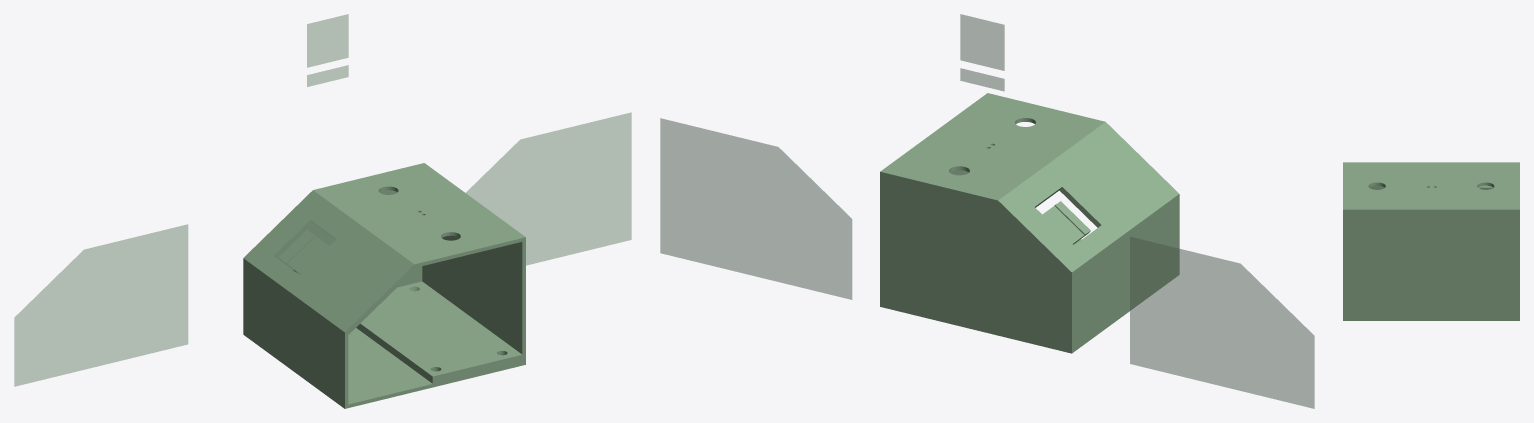
File: IoTSwitch.obj
The picture shows the model from 3 angles, left to right: view 1: azimuth 30°, elevation 25°; view 2: azimuth 150°, elevation 25°; view 3: azimuth 270°, elevation 25°; orthographic projection. The views are drawn at different scales.
Parts seen in each view (by area): view 1: IoTSwitch\Těleso, IoTSwitch\Povrch; view 2: IoTSwitch\Těleso, IoTSwitch\Povrch; view 3: IoTSwitch\Těleso.
Boxes of the visible parts, left/top/right/bottom form: IoTSwitch\Těleso: left=243, top=163, right=525, bottom=408; IoTSwitch\Povrch: left=14, top=14, right=631, bottom=386; IoTSwitch\Těleso: left=880, top=93, right=1179, bottom=353; IoTSwitch\Povrch: left=660, top=14, right=1314, bottom=408; IoTSwitch\Těleso: left=1343, top=162, right=1519, bottom=320.
Size of the model in its own units: 177 by 80.92 by 50.5.
